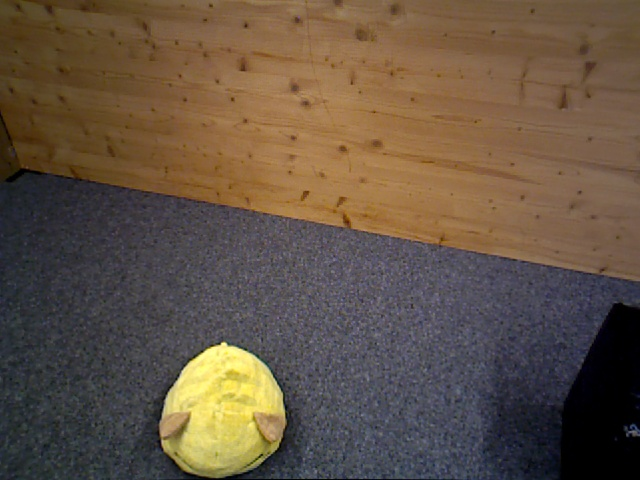grasp: (158, 341, 286, 479)
push: (559, 304, 640, 477)
